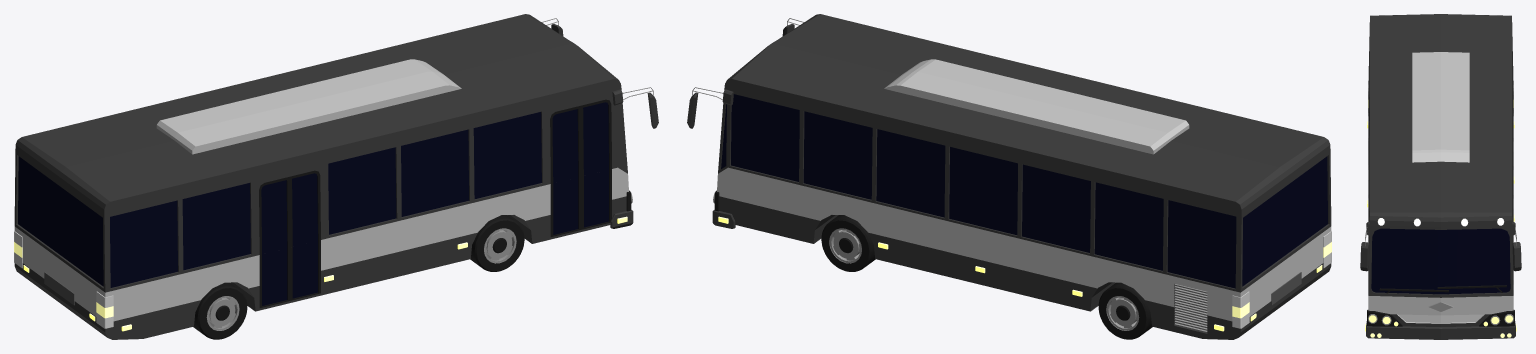
File: city_bus.glb
The picture shows the model from 3 angles, left to right: view 1: azimuth 30°, elevation 25°; view 2: azimuth 150°, elevation 25°; view 3: azimuth 270°, elevation 25°; orthographic projection. The views are drawn at different scales.
Parts seen in each view (by area): view 1: cityBus; view 2: cityBus; view 3: cityBus.
Part boxes in pixels (x1,y1,x2,y2): cityBus: (14,14,658,339); cityBus: (687,14,1331,339); cityBus: (1360,14,1521,339).
Bounding box in the file's own units: 981 × 297 × 310.
